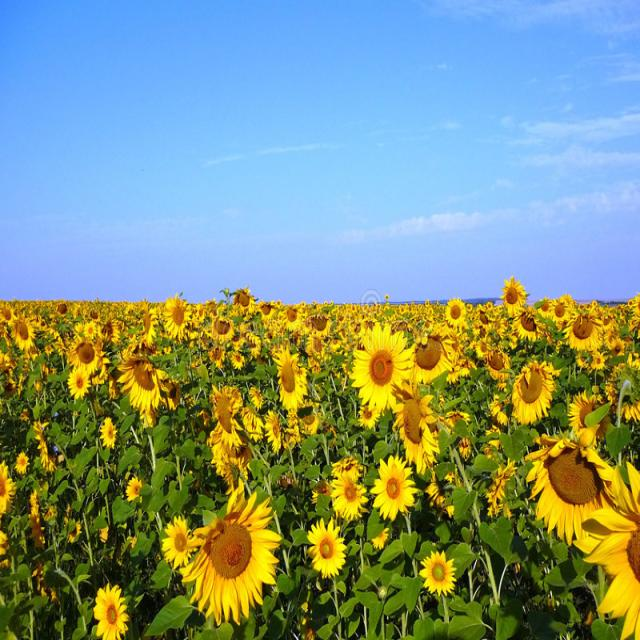sunflower: (192, 494, 286, 620), (525, 436, 615, 546), (340, 321, 425, 413), (116, 352, 166, 420), (366, 454, 416, 520), (302, 512, 348, 576), (512, 357, 554, 426), (202, 387, 245, 449), (154, 516, 199, 575), (274, 353, 312, 414), (90, 583, 130, 639), (330, 463, 368, 518), (418, 548, 459, 596), (565, 304, 603, 354), (156, 290, 195, 338), (67, 333, 105, 377), (497, 275, 534, 316), (6, 314, 40, 353), (206, 310, 242, 343), (0, 461, 18, 525), (61, 368, 94, 399), (445, 291, 467, 334), (226, 288, 258, 314), (95, 413, 117, 448), (121, 472, 144, 504), (280, 298, 302, 326), (12, 454, 32, 472)
